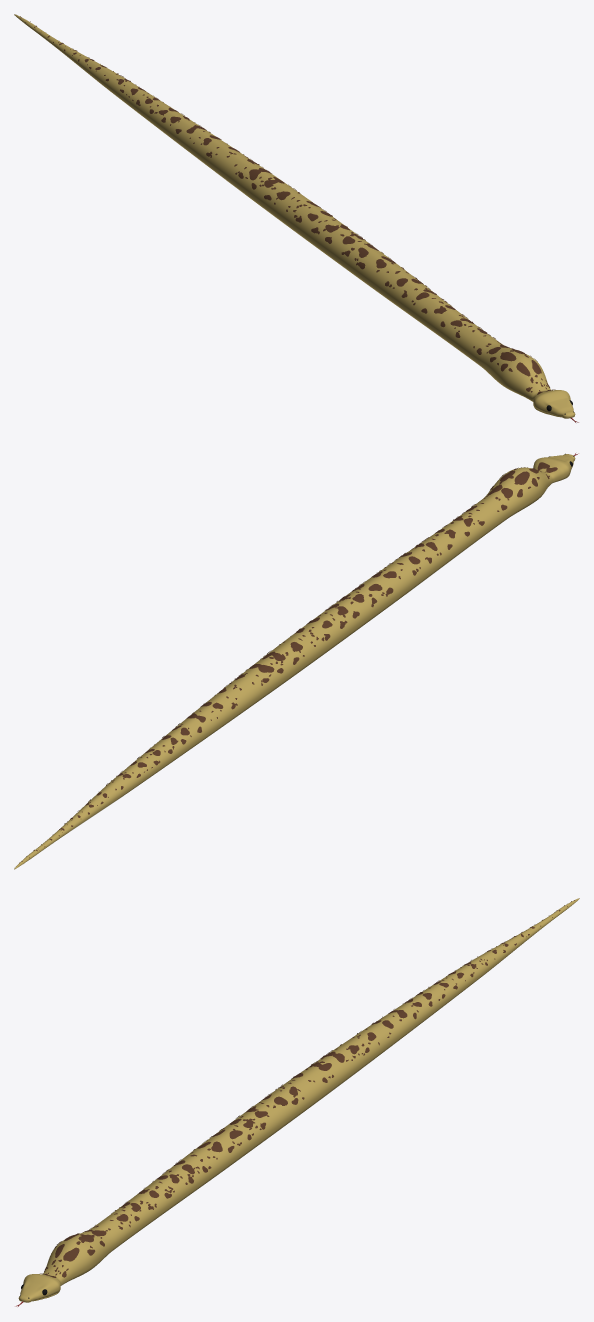
The model's file is adder.glb.
3 views of the same model, one above another, from view 1: azimuth 30°, elevation 25°; view 2: azimuth 150°, elevation 25°; view 3: azimuth 330°, elevation 25° (orthographic).
Parts seen in each view (by area): view 1: seg_3, seg_2, seg_4, seg_1, seg_5, seg_3_speckles, seg_6, seg_4_speckles, seg_2_speckles, seg_1_speckles, seg_5_speckles; view 2: seg_3, seg_4, seg_2, seg_5, seg_1, seg_6, seg_3_speckles, seg_4_speckles, seg_1_speckles, seg_2_speckles, seg_5_speckles; view 3: seg_3, seg_2, seg_4, seg_1, seg_5, seg_3_speckles, seg_2_speckles, seg_6, seg_1_speckles, seg_4_speckles, seg_5_speckles.
Part boxes in pixels (bbox=[...]): seg_3: bbox=[282, 197, 402, 291]; seg_2: bbox=[377, 267, 496, 360]; seg_4: bbox=[190, 132, 308, 222]; seg_1: bbox=[473, 339, 575, 418]; seg_5: bbox=[100, 71, 210, 152]; seg_3_speckles: bbox=[286, 200, 403, 272]; seg_6: bbox=[14, 14, 112, 83]; seg_4_speckles: bbox=[193, 135, 300, 204]; seg_2_speckles: bbox=[385, 268, 495, 348]; seg_1_speckles: bbox=[476, 341, 555, 394]; seg_5_speckles: bbox=[104, 73, 210, 138]; seg_3: bbox=[288, 567, 409, 661]; seg_4: bbox=[195, 636, 314, 730]; seg_2: bbox=[383, 500, 502, 592]; seg_5: bbox=[103, 710, 216, 799]; seg_1: bbox=[478, 454, 575, 522]; seg_6: bbox=[14, 787, 116, 869]; seg_3_speckles: bbox=[290, 569, 400, 646]; seg_4_speckles: bbox=[200, 638, 304, 718]; seg_1_speckles: bbox=[483, 462, 557, 510]; seg_2_speckles: bbox=[384, 503, 499, 575]; seg_5_speckles: bbox=[106, 710, 211, 790]; seg_3: bbox=[190, 1081, 311, 1175]; seg_2: bbox=[97, 1151, 216, 1244]; seg_4: bbox=[286, 1016, 403, 1106]; seg_1: bbox=[18, 1223, 120, 1302]; seg_5: bbox=[382, 955, 493, 1036]; seg_3_speckles: bbox=[193, 1082, 304, 1159]; seg_2_speckles: bbox=[95, 1152, 211, 1229]; seg_6: bbox=[481, 898, 579, 967]; seg_1_speckles: bbox=[40, 1225, 110, 1277]; seg_4_speckles: bbox=[291, 1018, 393, 1082]; seg_5_speckles: bbox=[382, 956, 487, 1021].
Size of the model in its own units: 0.0398 by 0.0288 by 1.01.
